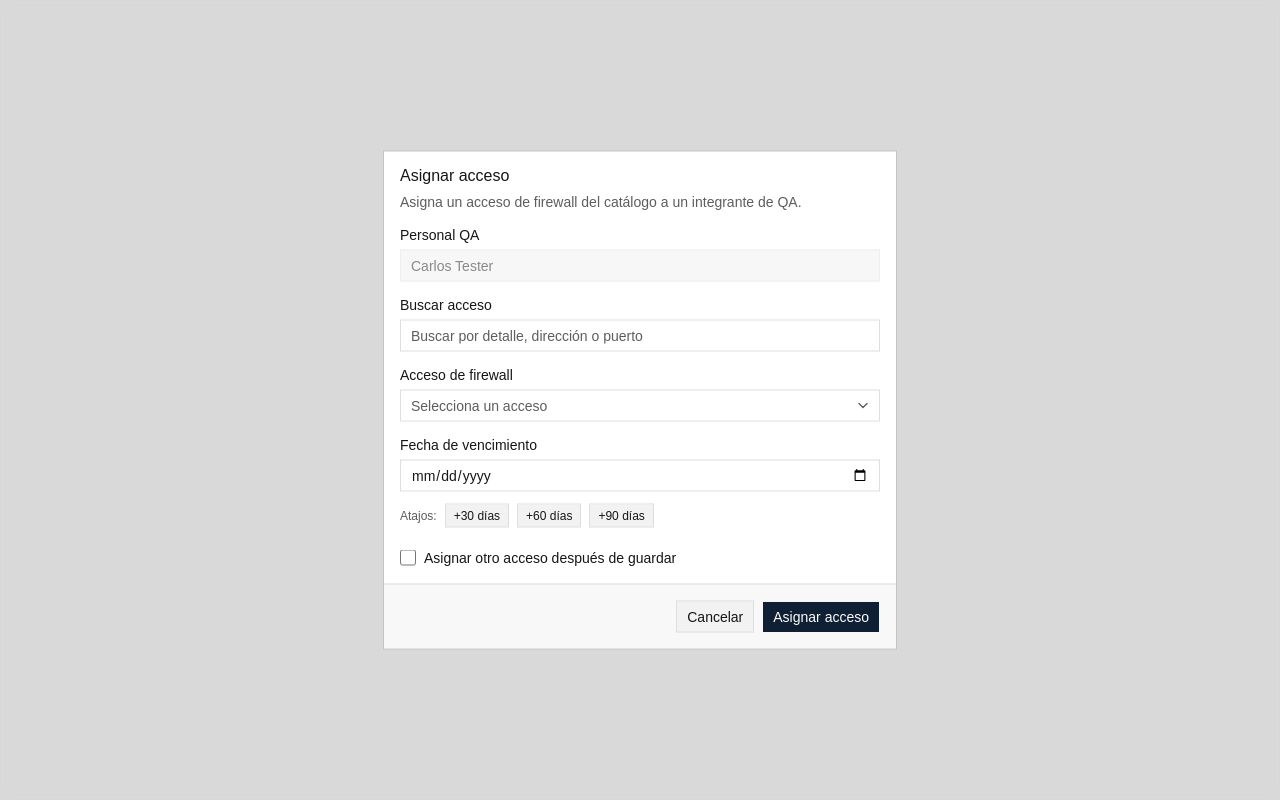
Test: AccessAssignmentFormDialog › muestra errores del servidor en un alert
Expected: the dialog is shown, [384,152,896,648]
Click the button "+30 días". click: (477, 516)
box: [445,504,509,528]
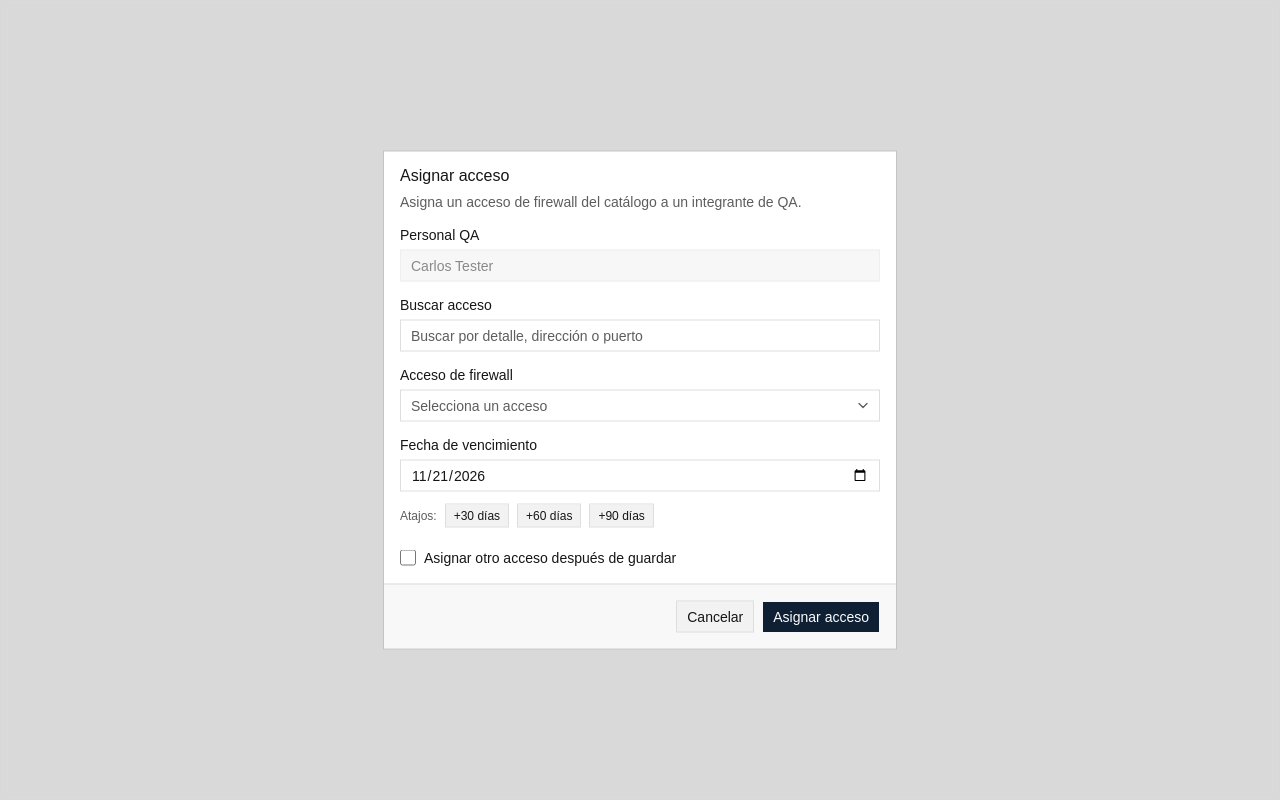
Click the dropdown with test id "assignment-access-select". click: (479, 406)
box: [400,390,880,422]
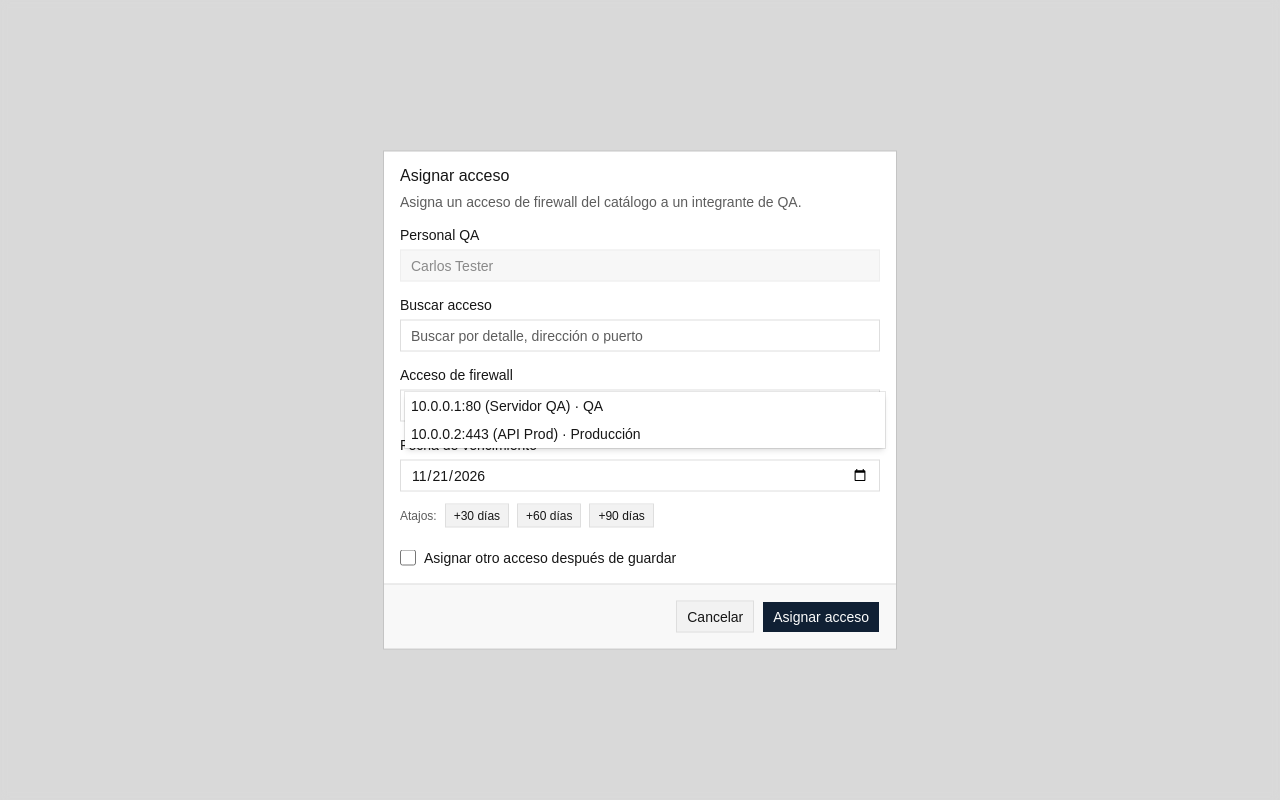
Click the option "10.0.0.1:80 (Servidor QA) · QA". click: (507, 406)
box: [411,398,603,414]
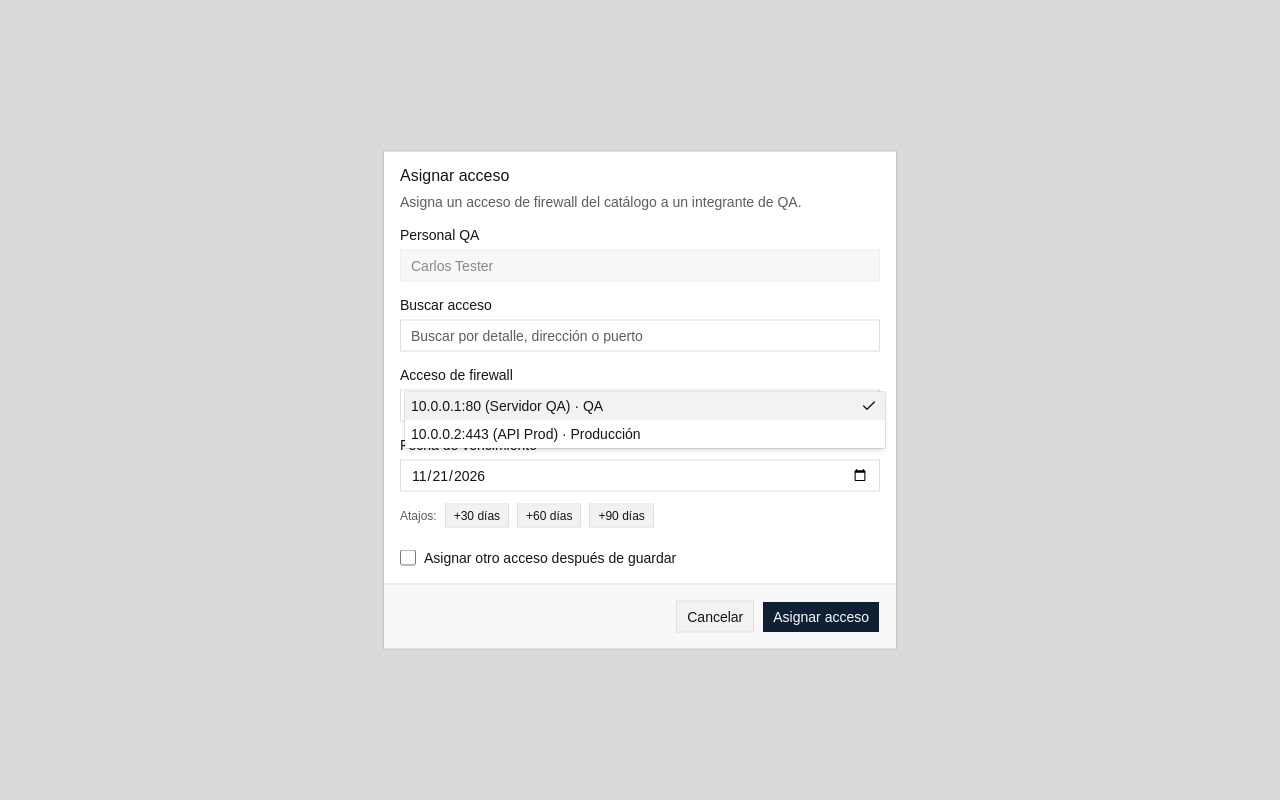
Click the button "Asignar acceso". click: (821, 616)
box: [762,600,880,632]
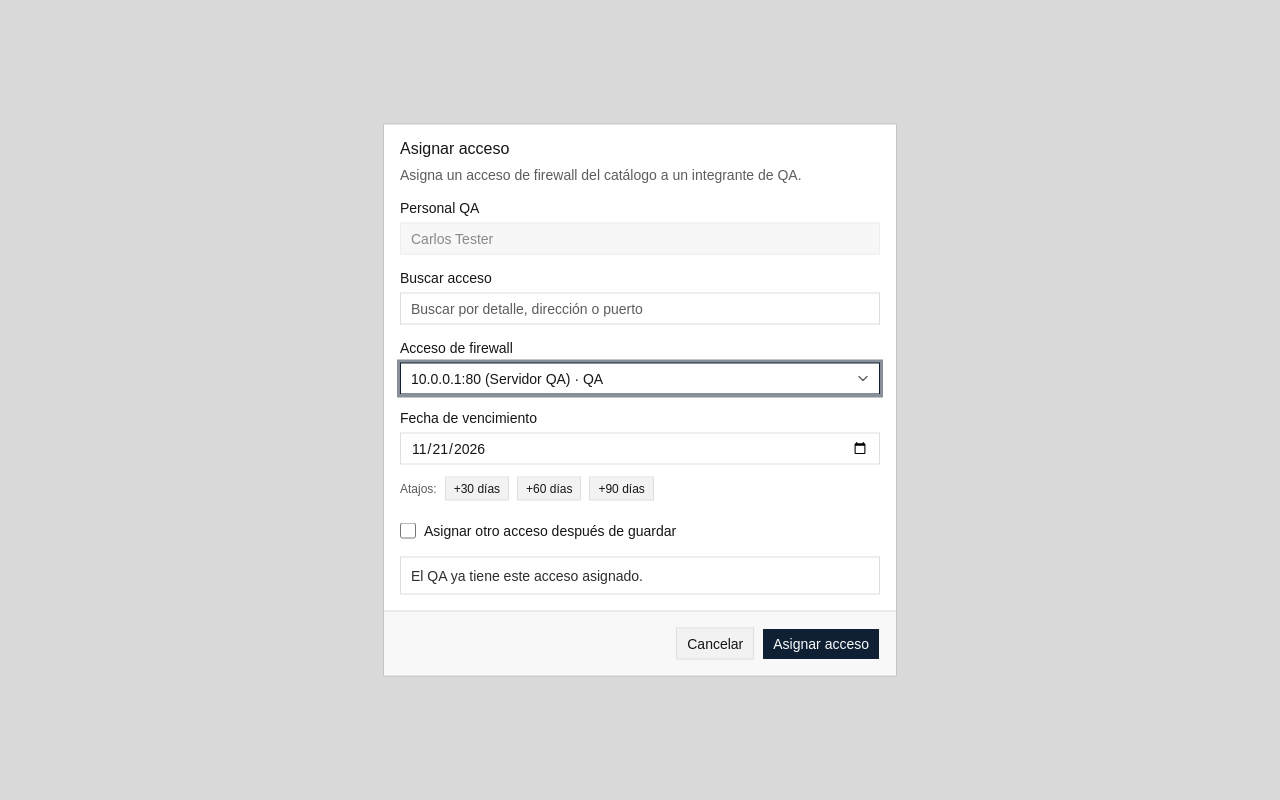
Result: the text "El QA ya tiene este acceso asignado." is shown at [411,568,643,584]
